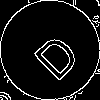D: (25, 25, 82, 83)
